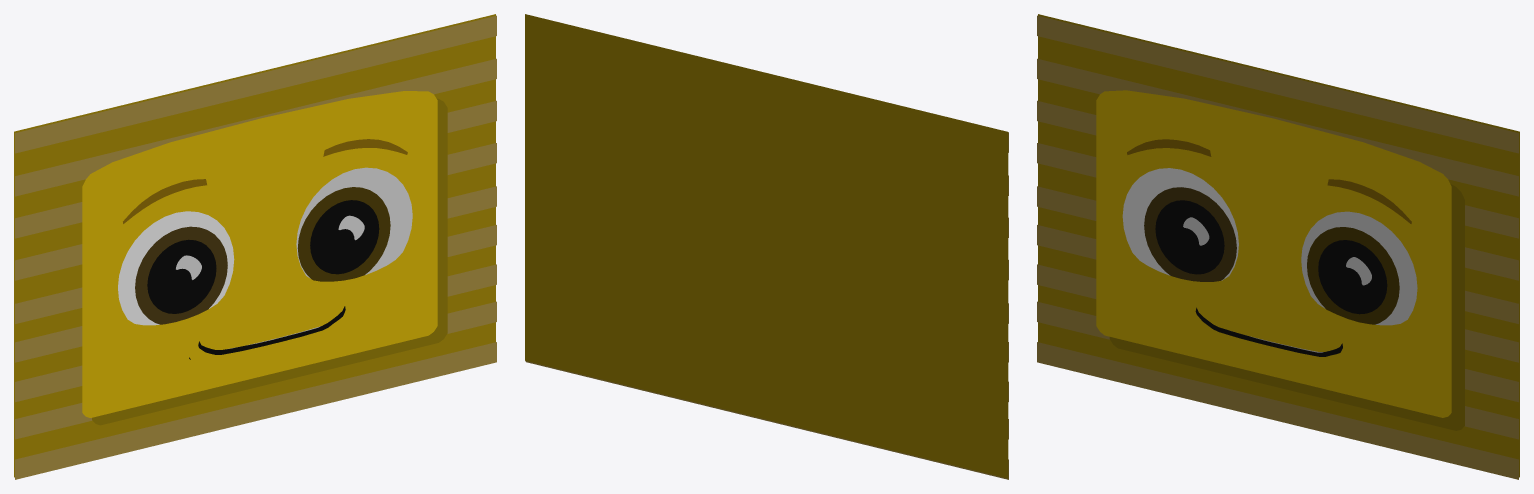
File: Toasty_Current.glb
The picture shows the model from 3 angles, left to right: view 1: azimuth 30°, elevation 25°; view 2: azimuth 150°, elevation 25°; view 3: azimuth 330°, elevation 25°; orthographic projection.
Parts seen in each view (by area): view 1: FaceGEO, BG_GEO, Strip1, Stripe9, R_LidGEO, L_LidGEO, Mouth, Stripe8, FaceShadowGeo, L_Pupil, R_Pupil, L_Sclera (+13 smaller); view 2: BG_GEO, Strip1; view 3: FaceGEO, BG_GEO, Strip1, Stripe9, L_LidGEO, R_LidGEO, Mouth, Stripe8, FaceShadowGeo, R_Pupil, L_Pupil, R_Sclera (+13 smaller).
Part boxes in pixels (left/top/right/bottom): FaceGEO: left=82, top=91, right=437, bottom=417; BG_GEO: left=14, top=14, right=495, bottom=477; Strip1: left=15, top=342, right=496, bottom=479; Stripe9: left=15, top=15, right=496, bottom=153; R_LidGEO: left=105, top=178, right=246, bottom=360; L_LidGEO: left=283, top=135, right=425, bottom=313; Mouth: left=187, top=283, right=354, bottom=382; Stripe8: left=15, top=58, right=496, bottom=196; FaceShadowGeo: left=92, top=98, right=447, bottom=425; L_Pupil: left=310, top=200, right=379, bottom=274; R_Pupil: left=147, top=239, right=216, bottom=313; L_Sclera: left=296, top=167, right=412, bottom=278; BG_GEO: left=525, top=14, right=1008, bottom=478; Strip1: left=525, top=361, right=1008, bottom=479; FaceGEO: left=1096, top=90, right=1451, bottom=417; BG_GEO: left=1038, top=14, right=1519, bottom=477; Strip1: left=1037, top=342, right=1518, bottom=479; Stripe9: left=1037, top=15, right=1518, bottom=153; L_LidGEO: left=1288, top=179, right=1429, bottom=360; R_LidGEO: left=1110, top=135, right=1251, bottom=314; Mouth: left=1184, top=282, right=1351, bottom=383; Stripe8: left=1037, top=58, right=1518, bottom=196; FaceShadowGeo: left=1109, top=184, right=1464, bottom=430; R_Pupil: left=1155, top=200, right=1224, bottom=274; L_Pupil: left=1318, top=240, right=1387, bottom=314; R_Sclera: left=1122, top=168, right=1238, bottom=280.
Size of the model in its own units: 3.25 by 2.24 by 0.1536.
